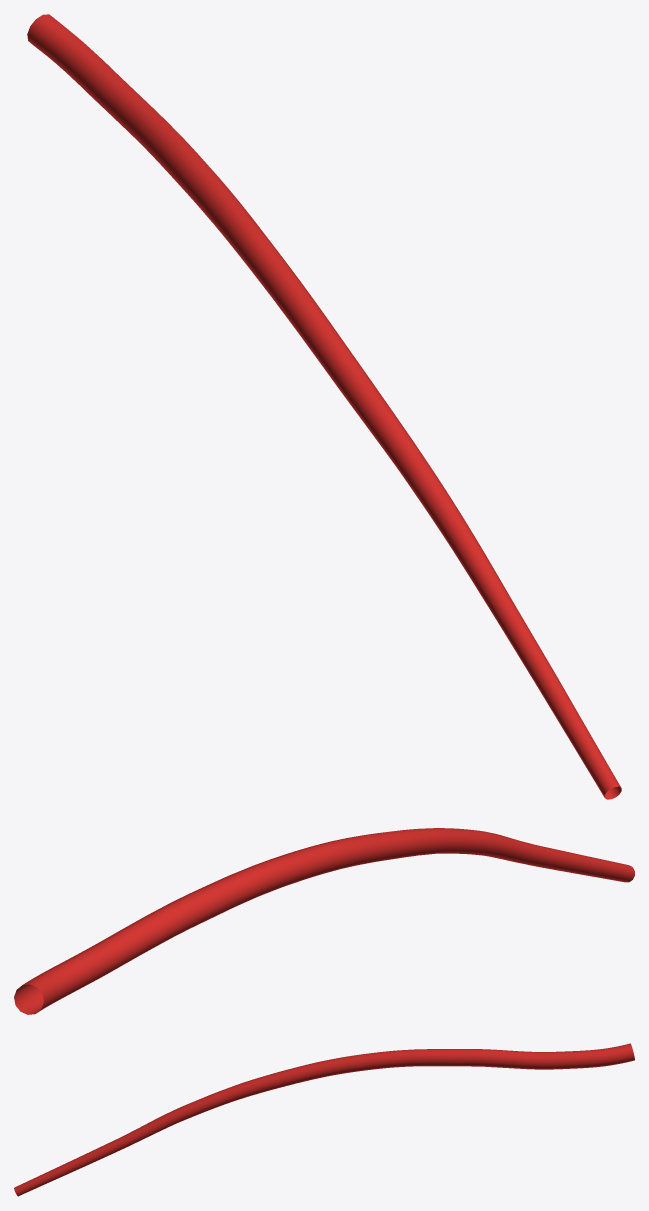
Rendered from circulatorio-superficial-branch-of-medial-plantar-artery-r.glb.
3 views of the same model, one above another, from view 1: azimuth 30°, elevation 25°; view 2: azimuth 150°, elevation 25°; view 3: azimuth 270°, elevation 25° (orthographic). The views are drawn at different scales.
Parts seen in each view (by area): view 1: Superficial branch of medial plantar artery.r; view 2: Superficial branch of medial plantar artery.r; view 3: Superficial branch of medial plantar artery.r.
Boxes of the visible parts, x1=… form: Superficial branch of medial plantar artery.r: x1=27, y1=14, x2=621, y2=799; Superficial branch of medial plantar artery.r: x1=14, y1=828, x2=634, y2=1014; Superficial branch of medial plantar artery.r: x1=14, y1=1043, x2=634, y2=1196.
Bounding box in the file's own units: 0.00473 × 0.0184 × 0.0636.
